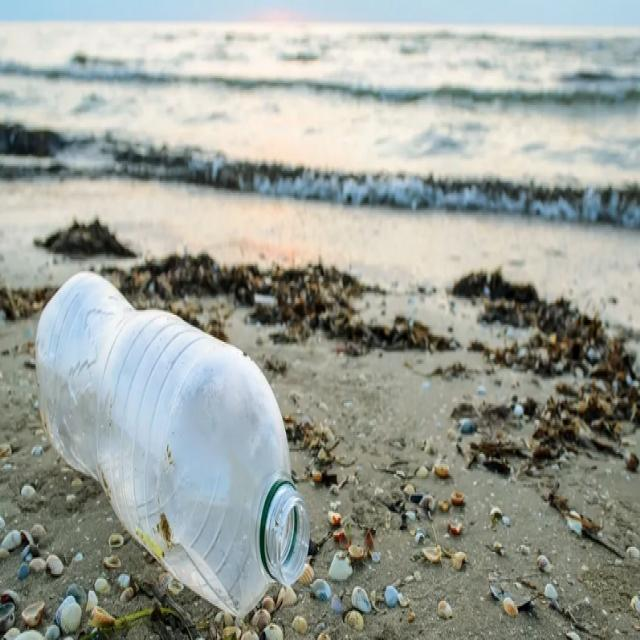Plastic Bottle: (34, 269, 312, 620)
